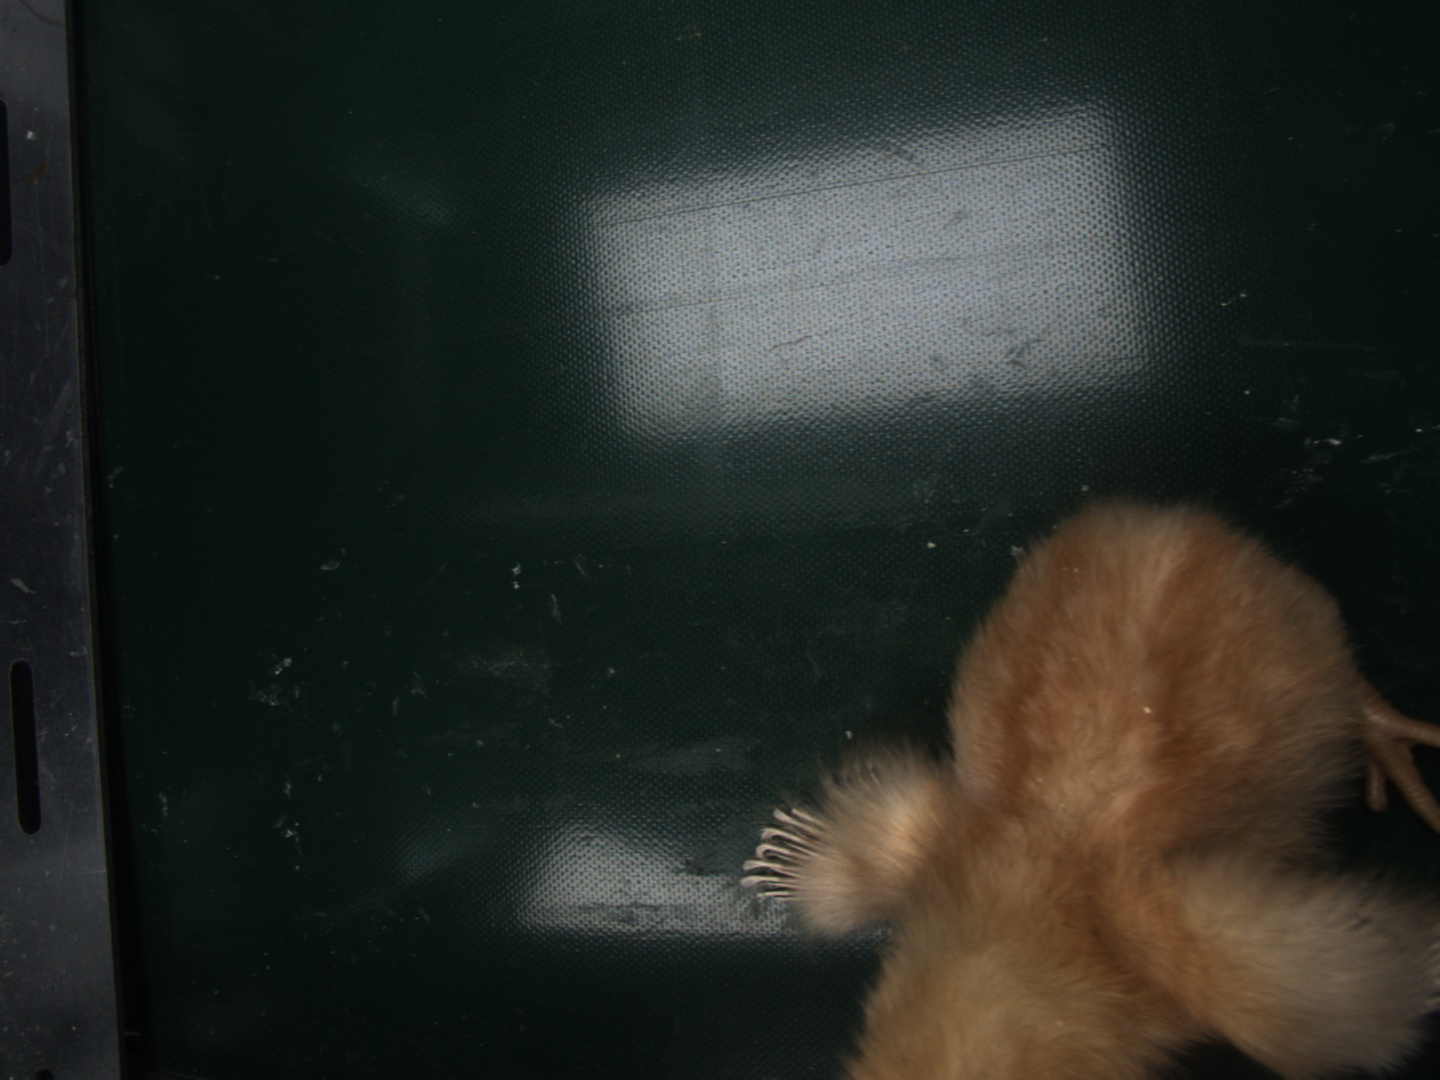female: (744, 803, 836, 905)
